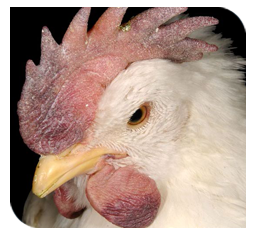blue comb: (14, 9, 233, 213)
